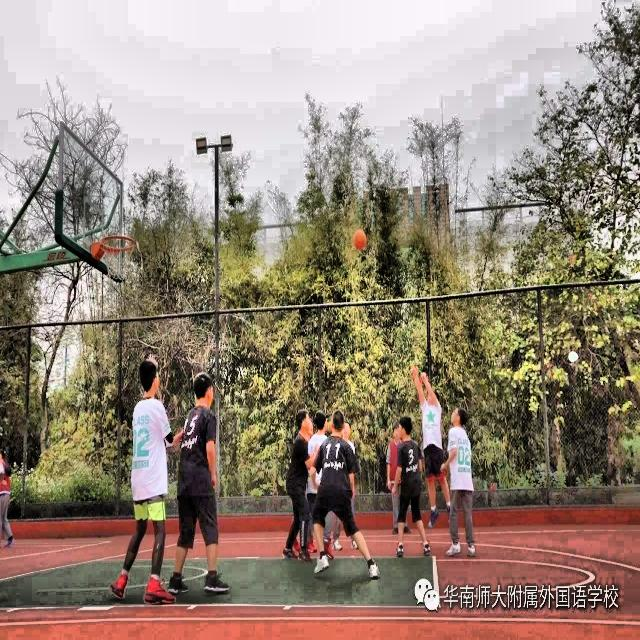board: (352, 228, 367, 250)
